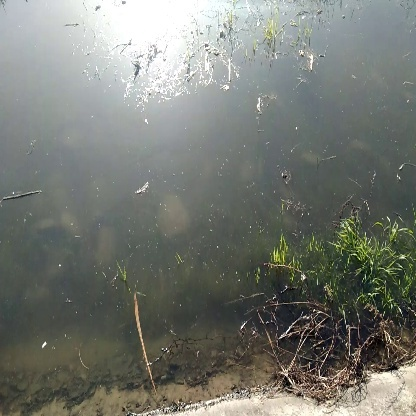grass: (322, 222, 414, 305)
